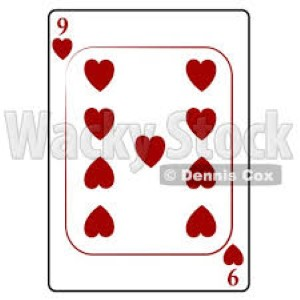NineOfHearts: (43, 4, 261, 295)
